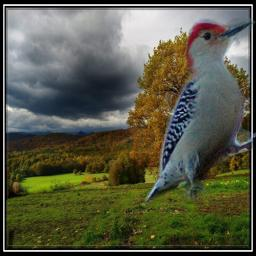Woodpecker: (143, 18, 256, 206)
